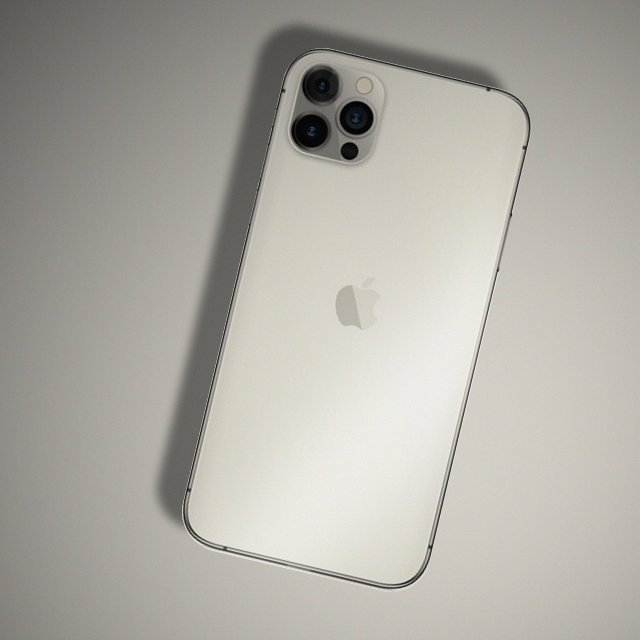iphone_12pro_silver: (183, 23, 551, 607), (282, 59, 389, 174)
